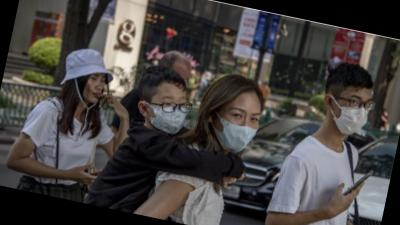with_mask: (206, 101, 262, 157), (143, 87, 192, 136), (327, 89, 374, 138)
without_mask: (82, 71, 108, 106)
